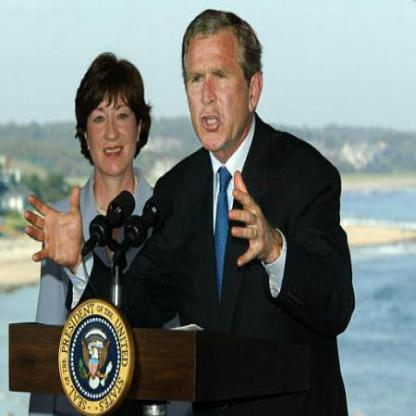face: (183, 11, 253, 154), (87, 64, 139, 177)
